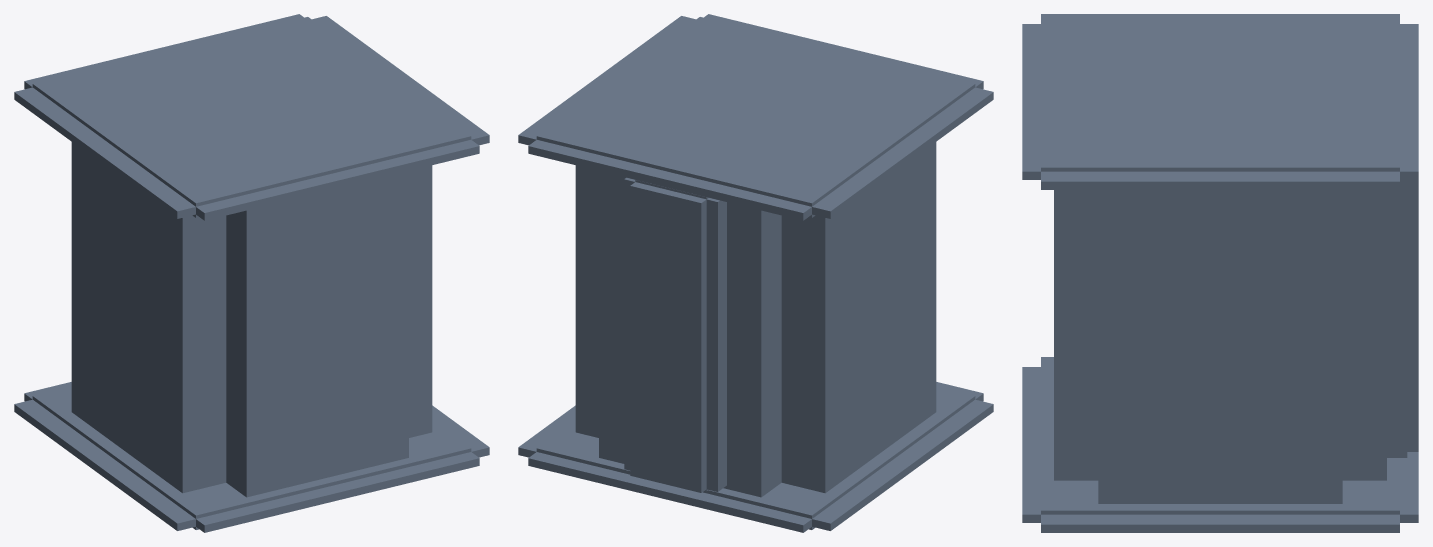
The model's file is bb_comp_DiceTray_TrayPedestal.fbx.
3 views of the same model, side by side, from view 1: azimuth 30°, elevation 25°; view 2: azimuth 150°, elevation 25°; view 3: azimuth 270°, elevation 25° (orthographic). The views are drawn at different scales.
Visible parts, largest first — view 1: bb_comp_DiceTray_TrayPedestal; view 2: bb_comp_DiceTray_TrayPedestal; view 3: bb_comp_DiceTray_TrayPedestal.
Boxes of the visible parts, <box> form: bb_comp_DiceTray_TrayPedestal: <box>14,14,489,532</box>; bb_comp_DiceTray_TrayPedestal: <box>518,14,993,532</box>; bb_comp_DiceTray_TrayPedestal: <box>1022,14,1418,532</box>.
Size of the model in its own units: 1 by 1 by 1.
